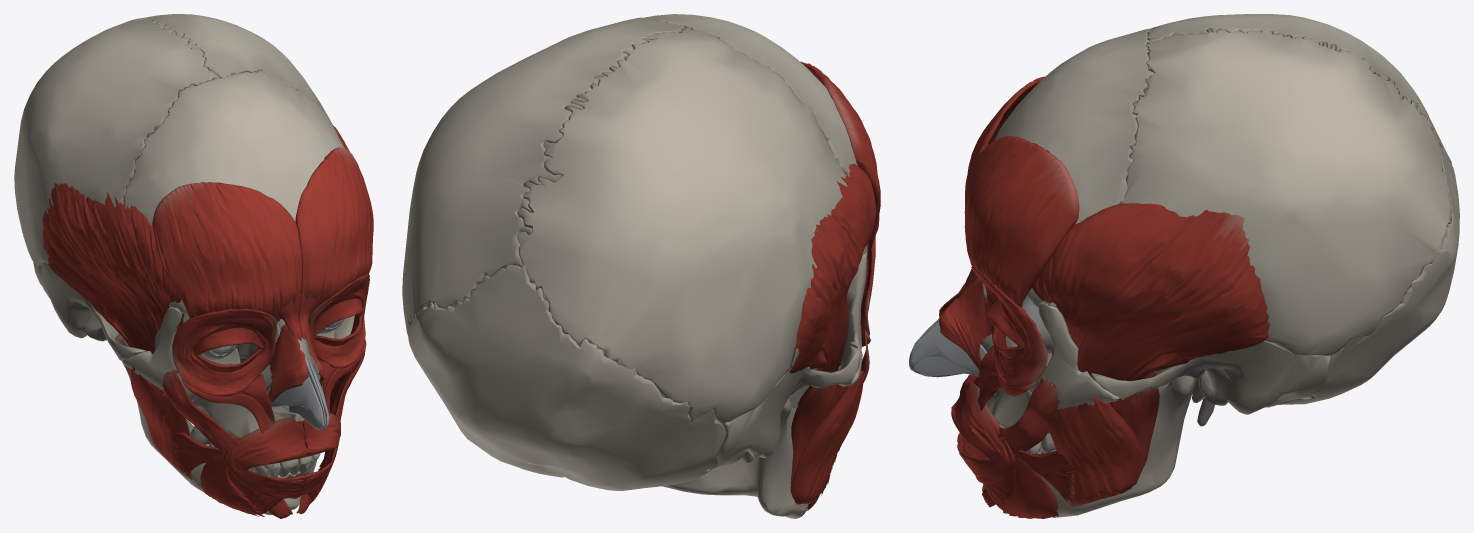
The model's file is head_anatomy.glb.
3 renders of one model, left to right at view 1: azimuth 30°, elevation 25°; view 2: azimuth 150°, elevation 25°; view 3: azimuth 270°, elevation 25°, orthographic. The views are drawn at different scales.
Visible parts, largest first — view 1: Right parietal bone, Frontal bone, Right frontalis, Right temporalis, Left frontalis, Left parietal bone, Right orbital part of orbicularis oculi, Right orbicularis oris, Right temporal bone, Right superficial part of masseter, Left orbital part of orbicularis oculi, Right maxilla (+18 smaller); view 2: Right parietal bone, Occipital bone, Left parietal bone, Right temporalis, Frontal bone, Mandible, Right temporal bone, Right superficial part of masseter, Right frontalis, Right deep part of masseter, Right zygomatic bone, Right orbital part of orbicularis oculi; view 3: Left parietal bone, Left temporalis, Frontal bone, Left frontalis, Left temporal bone, Occipital bone, Left superficial part of masseter, Right parietal bone, Mandible, Left orbicularis oris, Left zygomatic bone, Left orbital part of orbicularis oculi (+11 smaller).
Part boxes in pixels (x1,y1,x2,y2): Right parietal bone: [14, 18, 219, 265]; Frontal bone: [123, 70, 344, 313]; Right frontalis: [152, 182, 301, 321]; Right temporalis: [42, 183, 183, 353]; Left frontalis: [295, 147, 373, 313]; Left parietal bone: [135, 14, 337, 134]; Right orbital part of orbicularis oculi: [172, 309, 276, 396]; Right orbicularis oris: [223, 418, 308, 498]; Right temporal bone: [33, 249, 145, 366]; Right superficial part of masseter: [131, 366, 192, 479]; Left orbital part of orbicularis oculi: [308, 274, 369, 368]; Right maxilla: [192, 322, 292, 438]; Right parietal bone: [517, 27, 847, 422]; Occipital bone: [407, 265, 725, 490]; Left parietal bone: [402, 17, 684, 334]; Right temporalis: [787, 164, 876, 405]; Frontal bone: [645, 14, 867, 254]; Mandible: [662, 398, 808, 518]; Right temporal bone: [709, 346, 861, 469]; Right superficial part of masseter: [790, 370, 865, 504]; Right frontalis: [800, 61, 880, 244]; Right deep part of masseter: [790, 384, 848, 488]; Right zygomatic bone: [840, 249, 867, 385]; Right orbital part of orbicularis oculi: [860, 236, 875, 335]; Left parietal bone: [1120, 29, 1451, 355]; Left temporalis: [1032, 203, 1269, 380]; Frontal bone: [994, 28, 1154, 307]; Left frontalis: [964, 135, 1079, 307]; Left temporal bone: [1091, 340, 1330, 426]; Occipital bone: [1277, 145, 1459, 404]; Left superficial part of masseter: [1048, 397, 1141, 507]; Right parietal bone: [1147, 14, 1451, 164]; Mandible: [1040, 375, 1196, 517]; Left orbicularis oris: [951, 381, 1015, 483]; Left zygomatic bone: [1028, 302, 1119, 411]; Left orbital part of orbicularis oculi: [971, 266, 1047, 387].
Size of the model in its own units: 0.1534 by 0.2147 by 0.2264.
